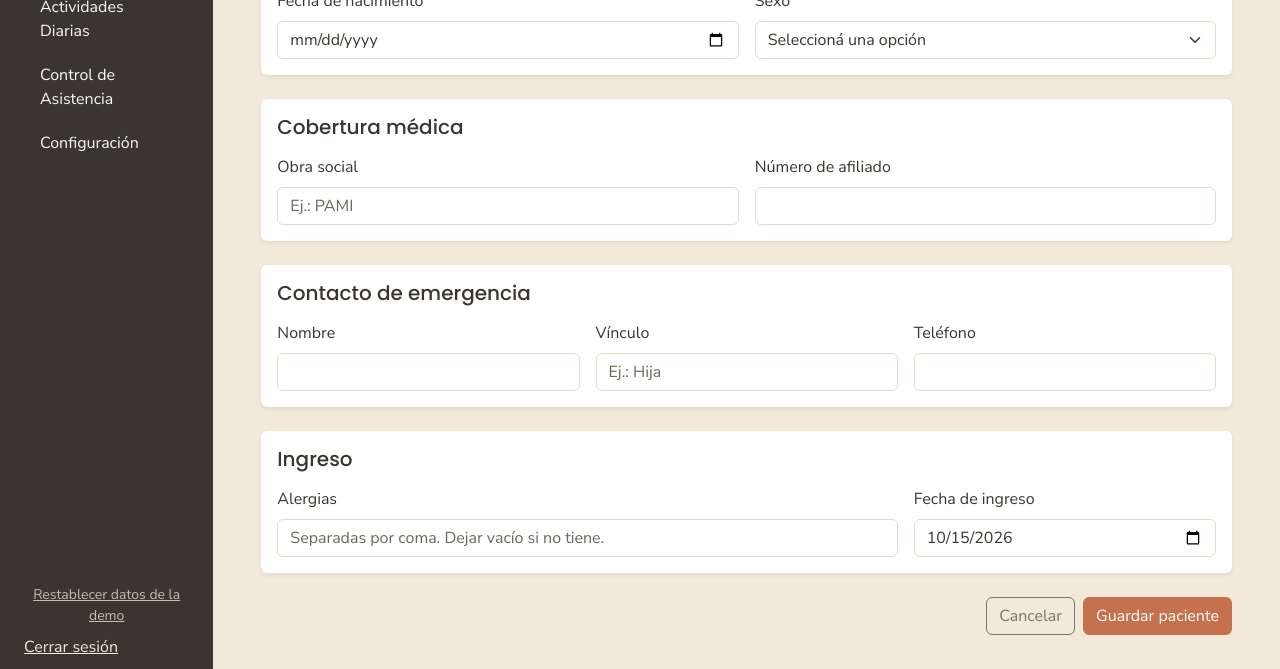
Test case: alta de paciente › no guarda si hay errores y enfoca el primer campo inválido
(page scrolled)
Click the button "Guardar paciente" at (1158, 616), box [1083,597,1232,635]
(page scrolled)
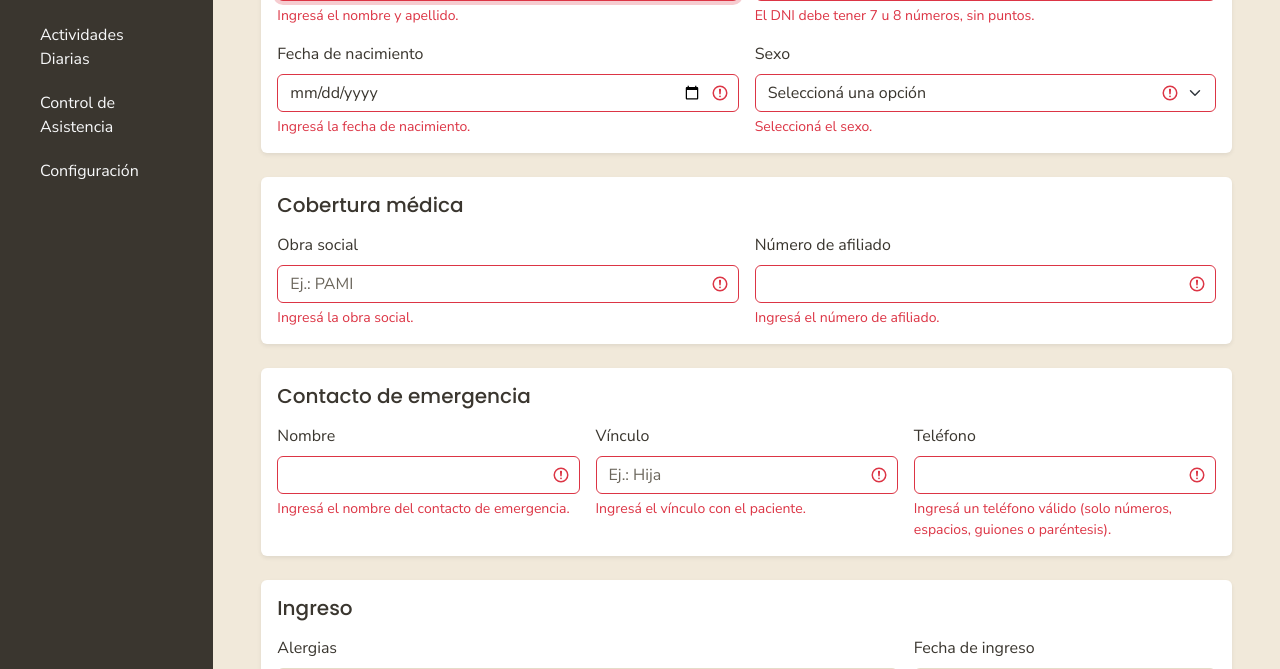
Now the text "Ingresá el nombre y apellido." is shown, box [277,6,458,25]
